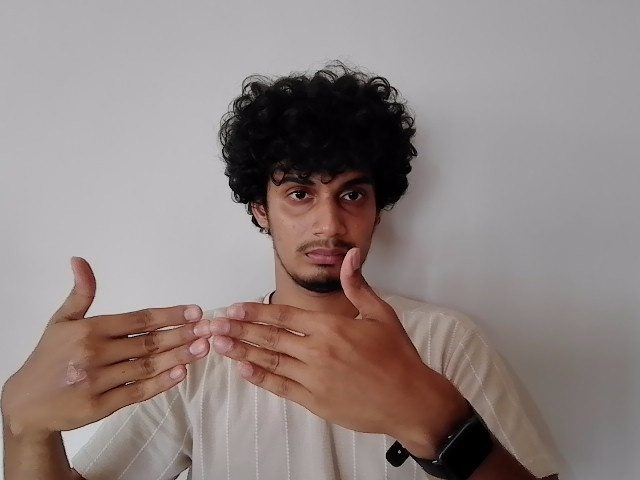family: (1, 253, 446, 450)
